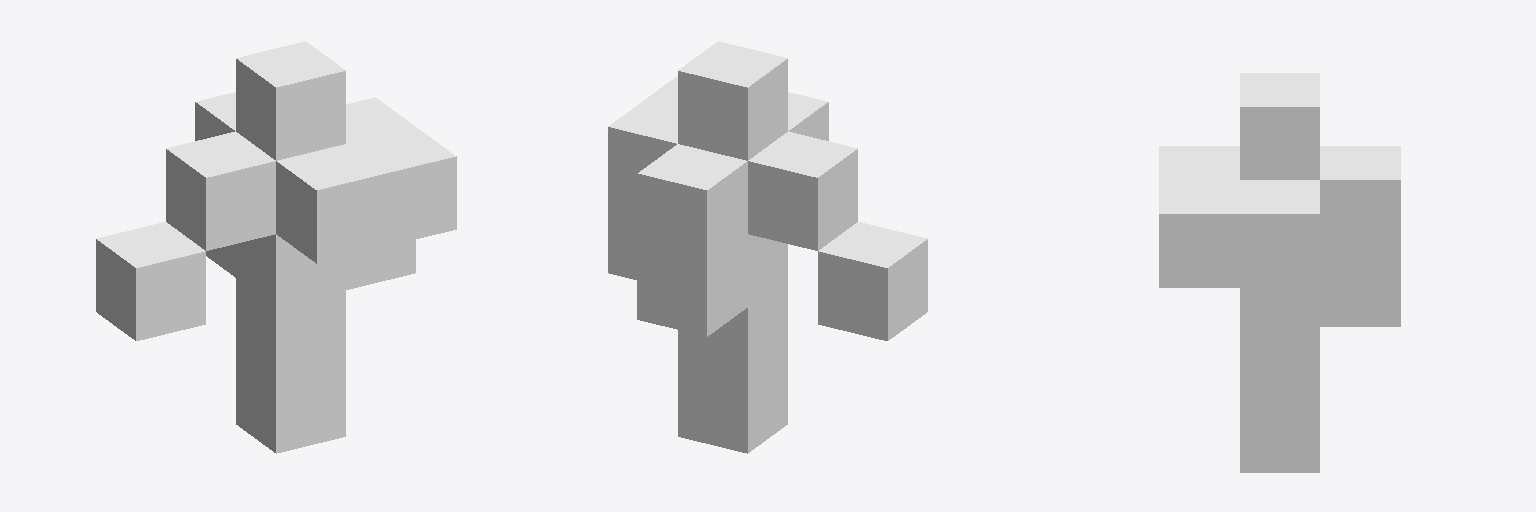
File: Flower-3.obj
3 views of the same model, side by side, from view 1: azimuth 30°, elevation 25°; view 2: azimuth 150°, elevation 25°; view 3: azimuth 270°, elevation 25° (orthographic).
Parts seen in each view (by area): view 1: object 1; view 2: object 1; view 3: object 1.
Part boxes in pixels (x1,y1,x2,y2): object 1: (96, 41, 456, 453); object 1: (608, 41, 927, 453); object 1: (1159, 73, 1400, 472).
Size of the model in its own units: 0.4 by 0.5 by 0.3.